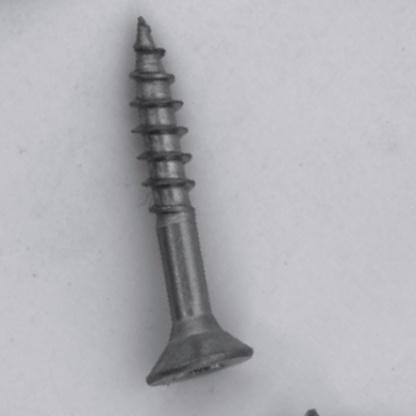metal: (125, 15, 255, 389)
